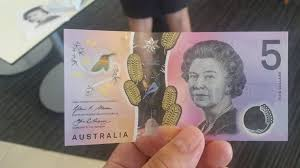billete: (64, 29, 288, 146)
